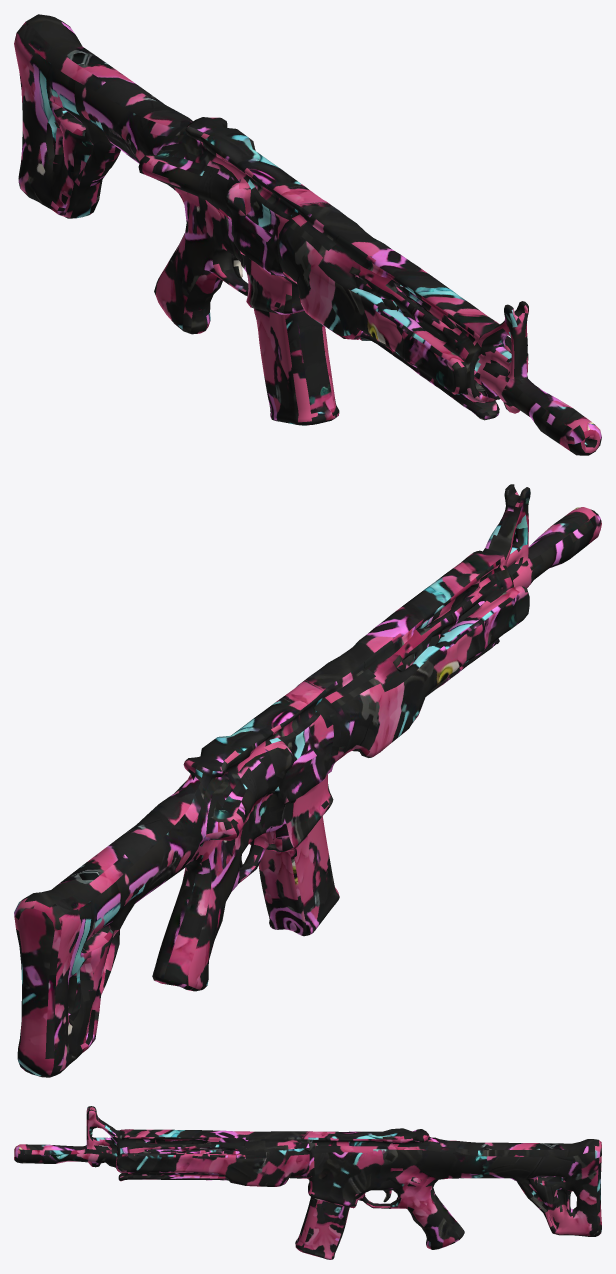
The model's file is TalonRubySkin.fbx.
3 renders of one model, top to bottom at view 1: azimuth 30°, elevation 25°; view 2: azimuth 150°, elevation 25°; view 3: azimuth 270°, elevation 25°, orthographic. The views are drawn at different scales.
Parts seen in each view (by area): view 1: TalonRubyBody, TalonRubyCharger; view 2: TalonRubyBody, TalonRubyCharger; view 3: TalonRubyBody, TalonRubyCharger.
Boxes of the visible parts, x1,y1,x2,y2 form: TalonRubyBody: [14, 14, 601, 455]; TalonRubyCharger: [253, 308, 339, 425]; TalonRubyBody: [14, 484, 601, 1077]; TalonRubyCharger: [258, 816, 339, 936]; TalonRubyBody: [14, 1106, 601, 1249]; TalonRubyCharger: [295, 1197, 349, 1259].
Bounding box in the file's own units: 9.16 × 27.63 × 99.93.
